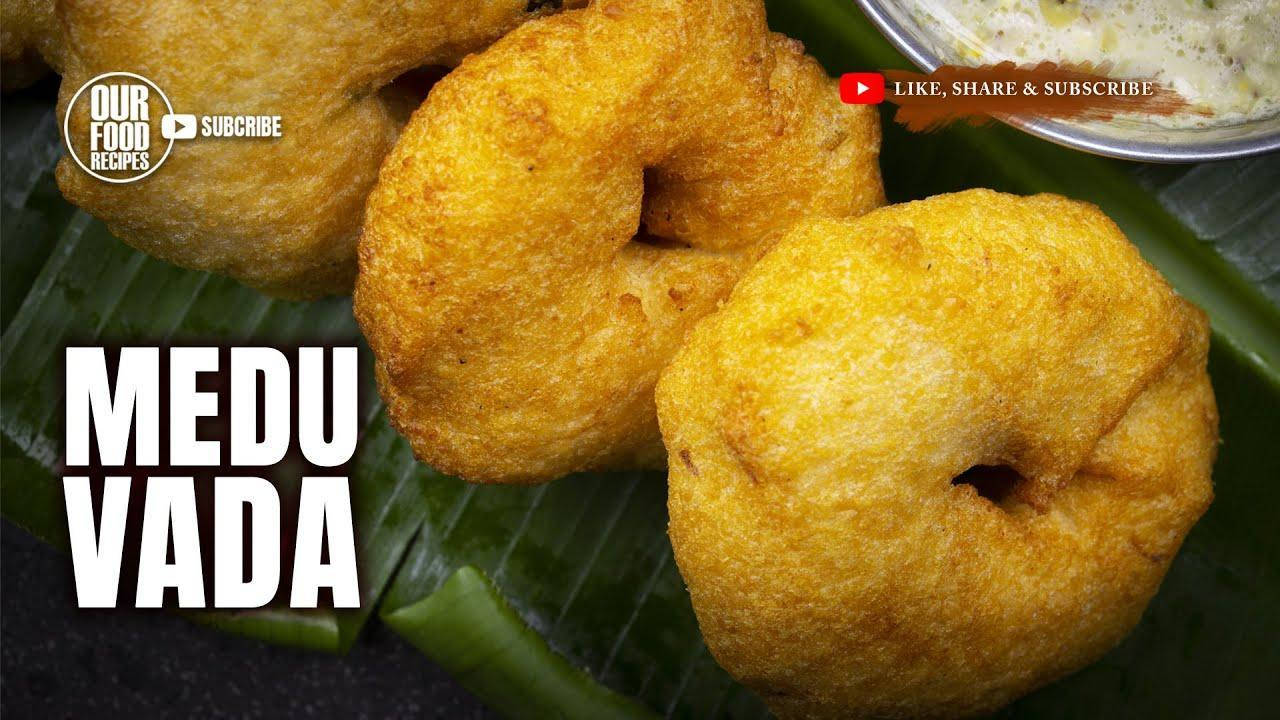mvada: (416, 66, 834, 472)
